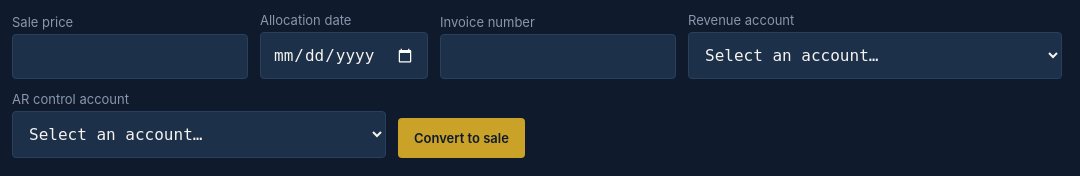
Scenario: ConvertReservationForm › shows the action-returned error message on failure
Type "45000000" into the number field labelled "Sale price" at (130, 56), box [12,34,248,79]
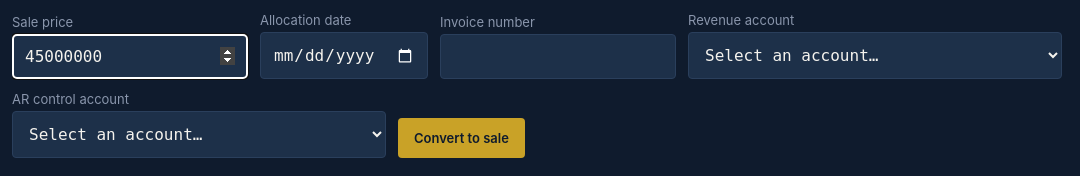
Type "2026-08-15" into the date field labelled "Allocation date" at (344, 56), box [260,32,428,79]
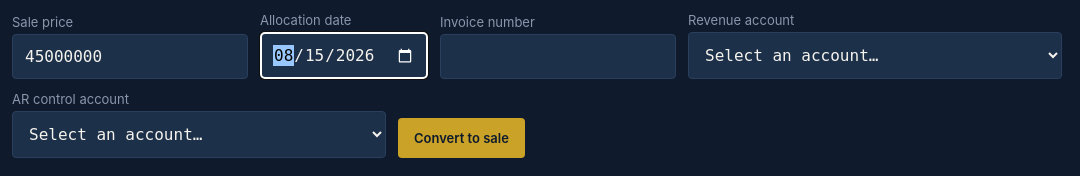
Type "INV-2026-0042" into the field labelled "Invoice number" at (558, 56), box [440,34,676,79]
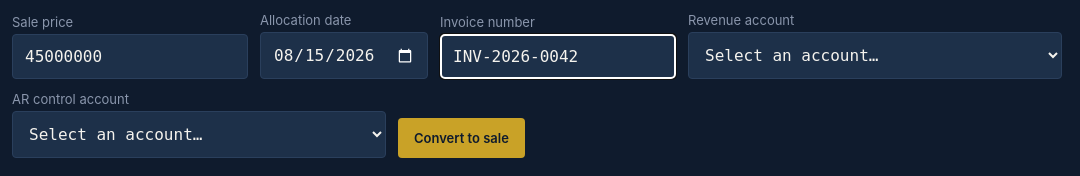
Select "4000 — Unit Sales Revenue" in the dropdown labelled "Revenue account" at (875, 56), box [688,32,1062,79]
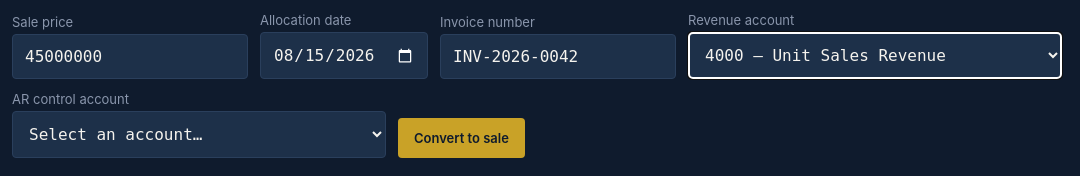
Select "1200 — Accounts Receivable Control" in the dropdown labelled "AR control account" at (199, 134), box [12,111,386,158]
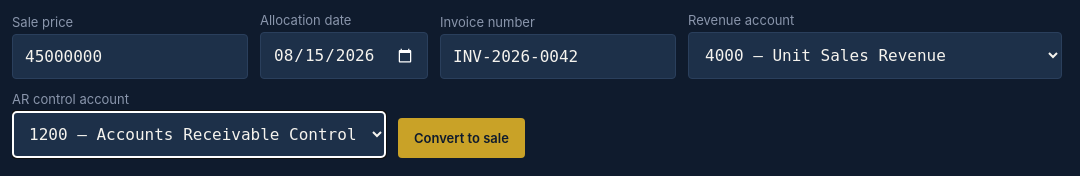
Click the button "Convert to sale" at (461, 138), box [398,118,525,158]
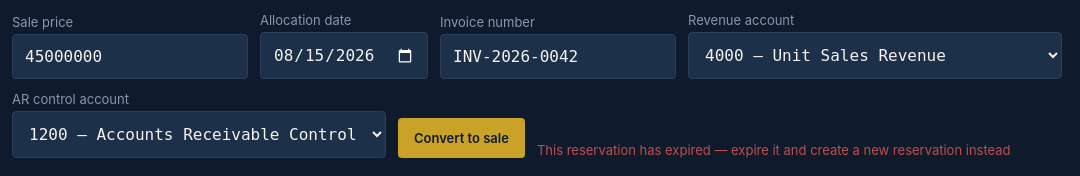
Result: the text "This reservation has expired — expire it and create a new reservation instead" is shown at [537,142,1010,158]
